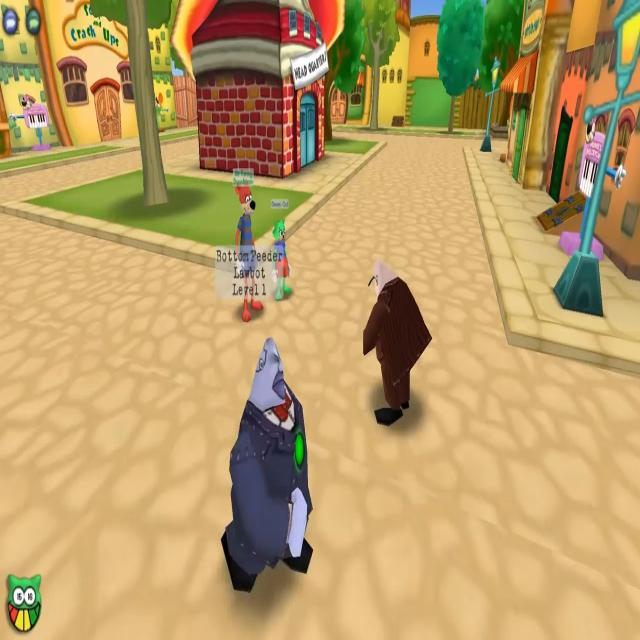bottomfeeder: (221, 249, 312, 595)
flunky: (357, 241, 437, 441)
